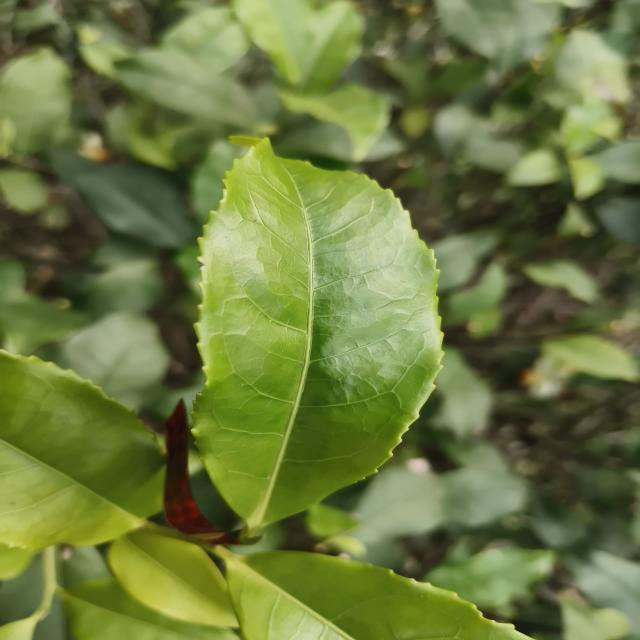Leaf: (194, 139, 441, 536), (0, 352, 164, 548), (225, 551, 525, 640), (50, 148, 197, 248), (109, 531, 237, 627), (115, 48, 258, 127), (56, 312, 169, 410), (279, 84, 390, 161), (423, 547, 555, 609), (0, 48, 72, 155), (355, 465, 444, 546), (234, 0, 310, 84), (567, 551, 640, 635), (301, 0, 364, 94), (160, 7, 249, 73), (439, 468, 527, 527), (542, 334, 638, 381), (431, 232, 497, 291), (507, 148, 563, 186)
